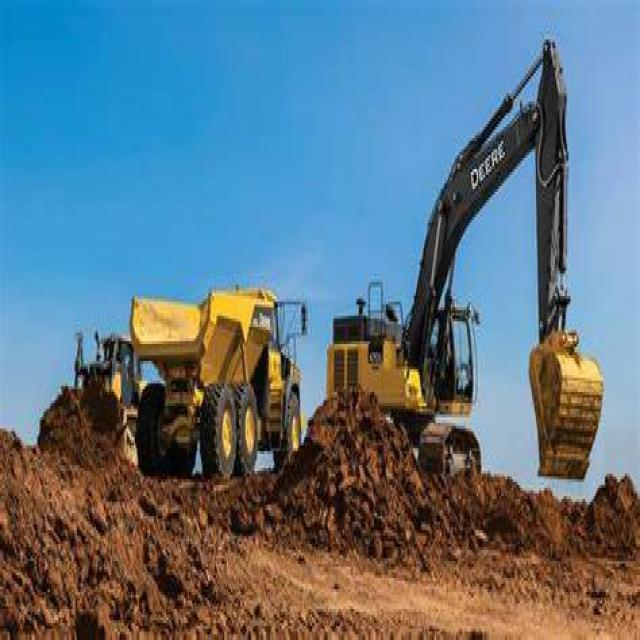dump_truck: (116, 259, 317, 502)
excavator: (327, 34, 610, 530)
